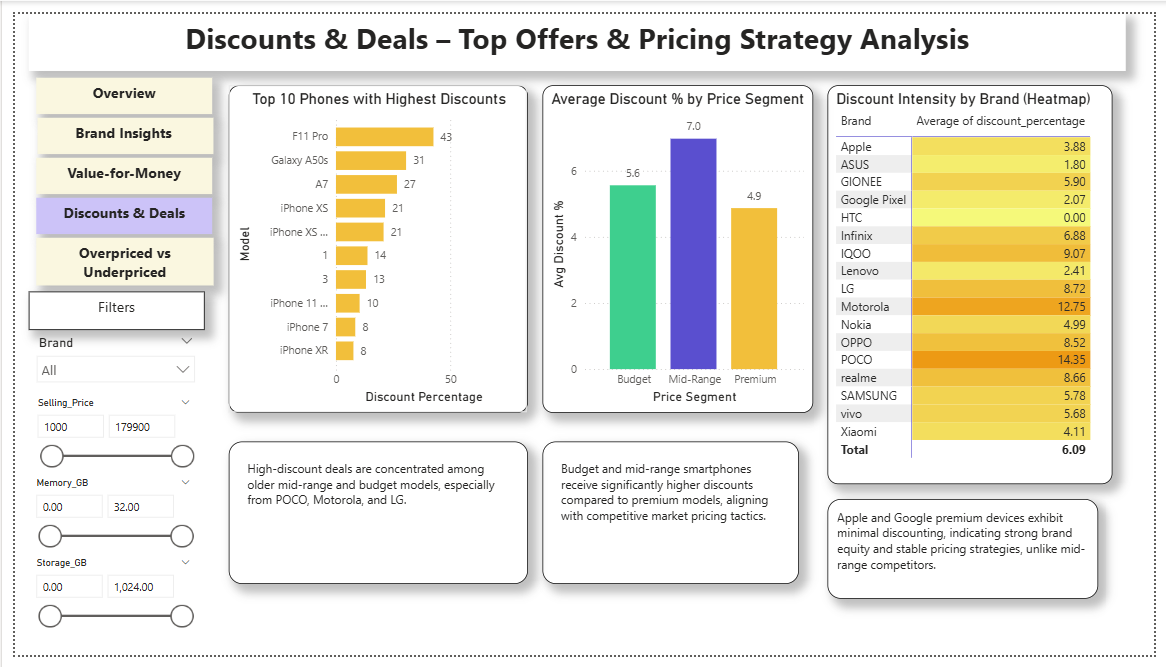

Layout of this report page (visuals, bound fields, positions):
{"tool":"powerbi","page":{"name":"Discounts & Deals","canvas":[1280,720],"ordinal":3},"visuals":[{"type":"textbox","box":[16,0,1232,64],"z":0},{"type":"textbox","box":[23.8,71.5,197.7,40.7],"z":1000},{"type":"textbox","box":[25.2,116.4,197.7,40.7],"z":2000},{"type":"textbox","box":[23.8,161.3,197.7,40.7],"z":3000},{"type":"textbox","box":[23.8,206.1,197.7,40.7],"z":4000},{"type":"textbox","box":[23.8,251,199.1,53.3],"z":5000},{"type":"slicer","fields":{"Values":["flipkart_mobiles_cleaned.Brand"]},"box":[14.2,355.7,197.7,70.1],"z":6000},{"type":"slicer","fields":{"Values":["flipkart_mobiles_cleaned.Memory_GB"]},"box":[11.4,515.5,197.7,89.7],"z":7000},{"type":"slicer","fields":{"Values":["flipkart_mobiles_cleaned.Storage_GB"]},"box":[11.4,605.3,197.7,88.3],"z":8000},{"type":"slicer","fields":{"Values":["flipkart_mobiles_cleaned.Selling_Price"]},"box":[12.8,425.8,196.3,89.7],"z":9000},{"type":"textbox","box":[15.6,312.2,197.7,43.5],"z":10000},{"type":"clusteredBarChart","title":"Top 10 Phones with Highest Discounts","fields":{"Category":["flipkart_mobiles_cleaned.Model"],"Y":["Avg(flipkart_mobiles_cleaned.discount_percentage)"]},"box":[240,80,336,368],"z":11000},{"type":"pivotTable","title":"Discount Intensity by Brand (Heatmap)","fields":{"Rows":["flipkart_mobiles_cleaned.Brand"],"Values":["Avg(flipkart_mobiles_cleaned.discount_percentage)"]},"box":[912,80,320,448],"z":12000},{"type":"columnChart","title":"Average Discount % by Price Segment","fields":{"Category":["flipkart_mobiles_cleaned.Price Segment1"],"Y":["flipkart_mobiles_cleaned.Avg Discount %"]},"box":[592,80,304,368],"z":13000},{"type":"textbox","box":[912,544,304,112],"z":14000},{"type":"textbox","box":[592,480,288,160],"z":15000},{"type":"textbox","box":[240,480,336,160],"z":16000}]}

Visuals, with their boxes in screenshot pixels (x1, y1, x2, y2), scaled from the page's 1280x720 canvas onto the 1166x667 screenshot:
textbox: rect(15, 0, 1137, 59)
textbox: rect(22, 66, 202, 104)
textbox: rect(23, 108, 203, 146)
textbox: rect(22, 149, 202, 187)
textbox: rect(22, 191, 202, 229)
textbox: rect(22, 233, 203, 282)
slicer - flipkart_mobiles_cleaned.Brand: rect(13, 330, 193, 394)
slicer - flipkart_mobiles_cleaned.Memory_GB: rect(10, 478, 190, 561)
slicer - flipkart_mobiles_cleaned.Storage_GB: rect(10, 561, 190, 643)
slicer - flipkart_mobiles_cleaned.Selling_Price: rect(12, 394, 190, 478)
textbox: rect(14, 289, 194, 330)
"Top 10 Phones with Highest Discounts" clusteredBarChart: rect(219, 74, 525, 415)
"Discount Intensity by Brand (Heatmap)" pivotTable: rect(831, 74, 1122, 489)
"Average Discount % by Price Segment" columnChart: rect(539, 74, 816, 415)
textbox: rect(831, 504, 1108, 608)
textbox: rect(539, 445, 802, 593)
textbox: rect(219, 445, 525, 593)
